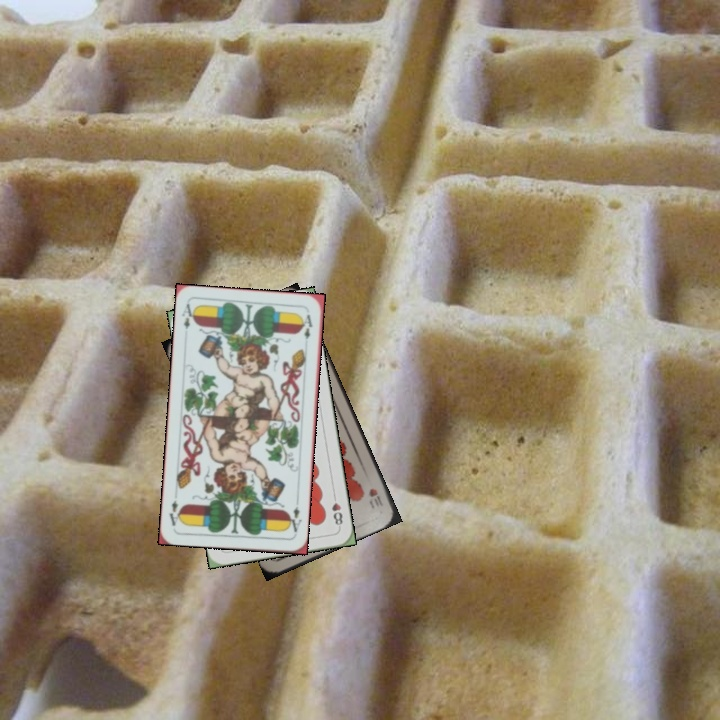EA: (284, 496, 304, 535), (178, 300, 198, 331)
H10: (365, 484, 386, 510)
H8: (328, 490, 345, 530)
